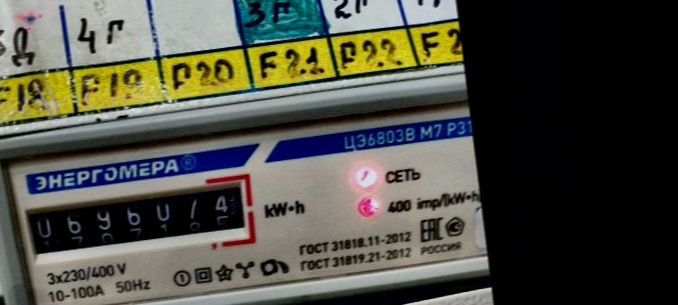0: (31, 211, 53, 237), (152, 194, 171, 221)
4: (210, 187, 228, 211)
5: (214, 212, 231, 229)
6: (123, 198, 143, 226), (63, 207, 83, 233)
7: (182, 192, 202, 218)
9: (93, 203, 112, 231)
screen: (13, 167, 260, 265)
